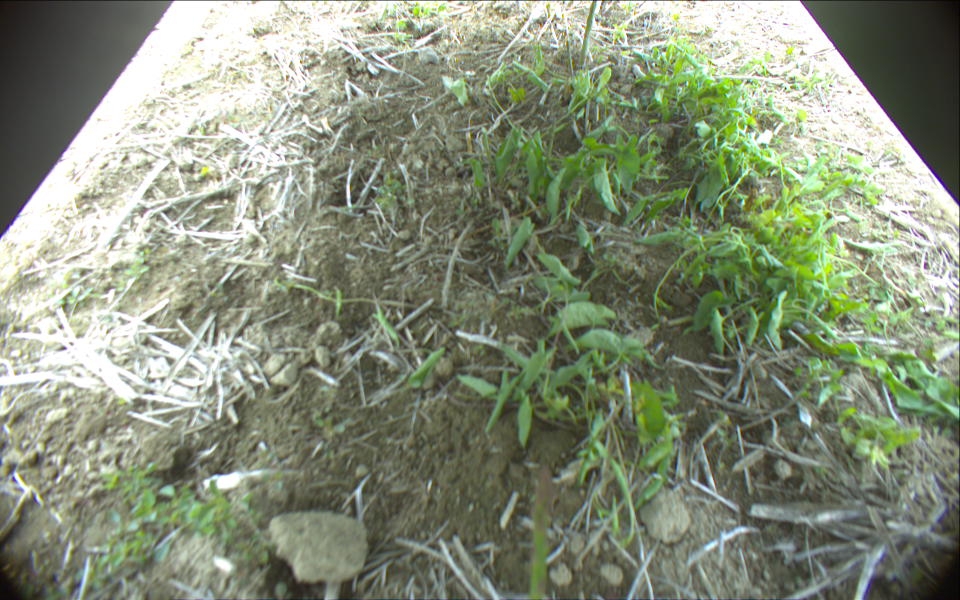aspa: (527, 465, 552, 600), (578, 1, 598, 71), (566, 40, 575, 78)
